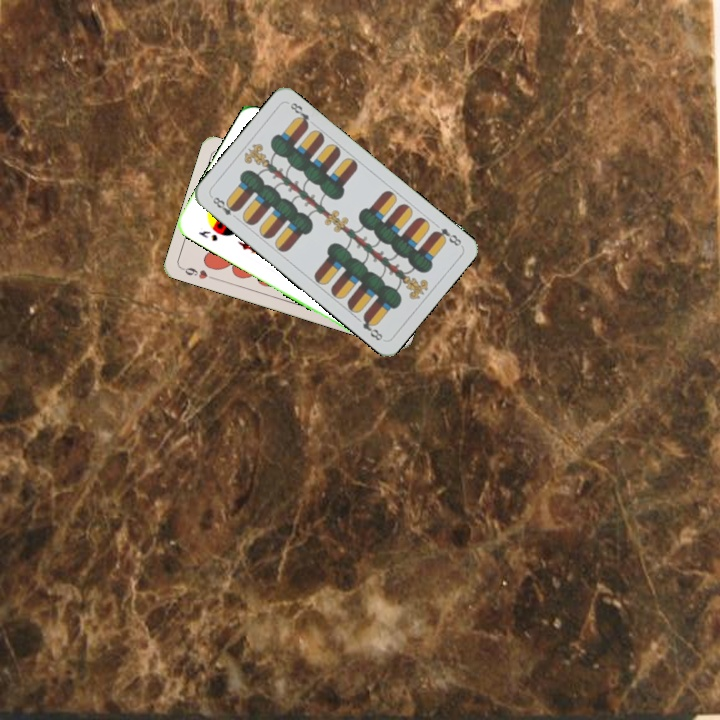E8: (207, 192, 241, 223), (429, 224, 464, 249)
H9: (178, 263, 217, 282)
SK: (194, 226, 220, 244)
